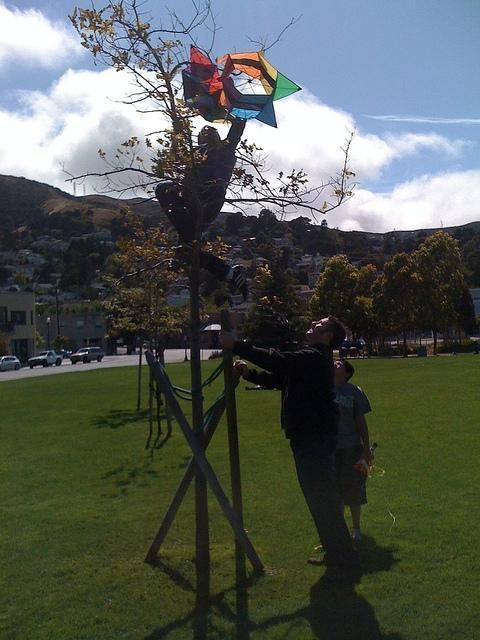car: (28, 349, 65, 369), (70, 347, 106, 365), (338, 342, 358, 358), (0, 356, 21, 371), (392, 344, 402, 356)
